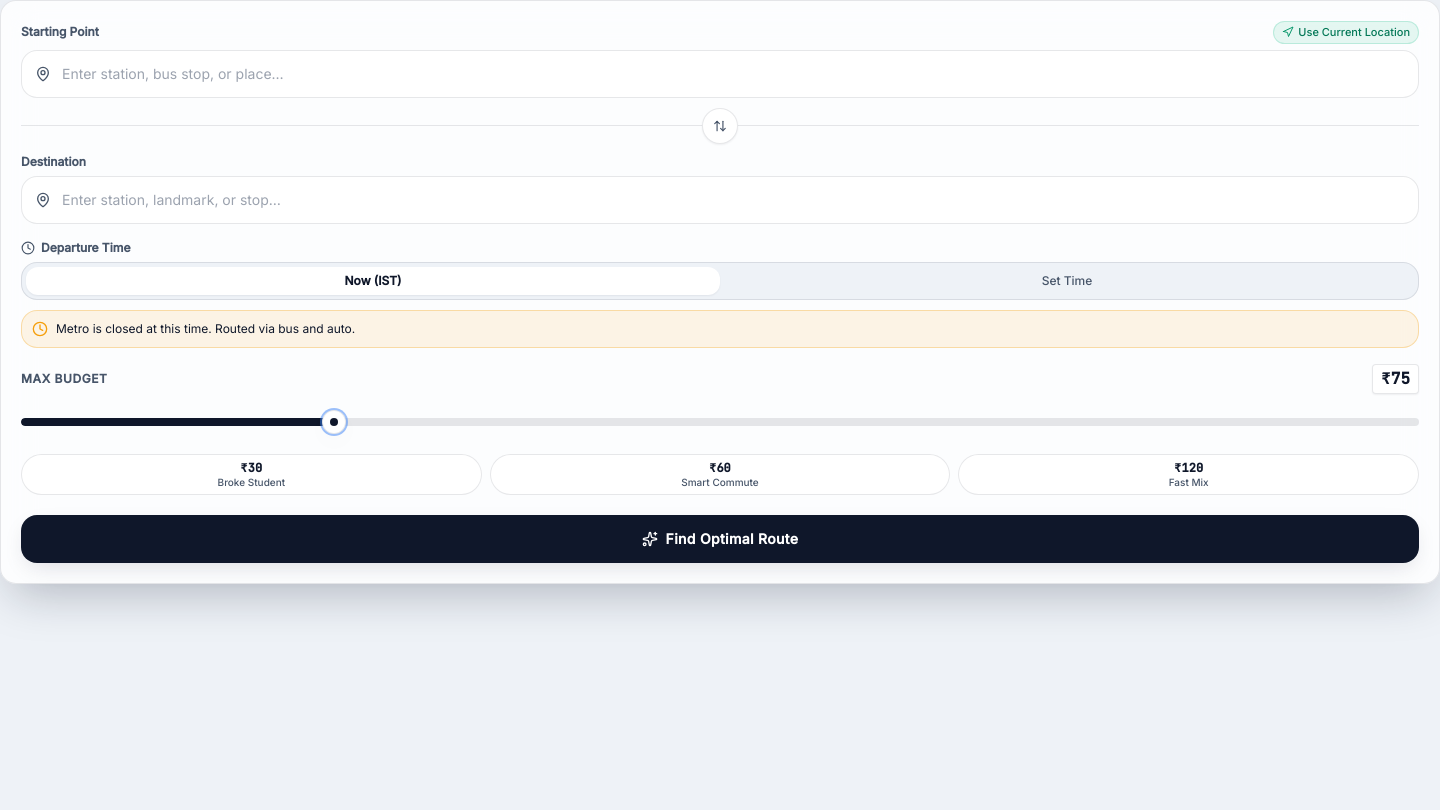
Test: Dock Component › validates missing origin and destination with inline errors
The image size is (1440, 810).
What coordinates should you click on to do the following:
click the button "Find Optimal Route"
I would click on:
 (720, 539)
Its box is [21,515,1419,563].
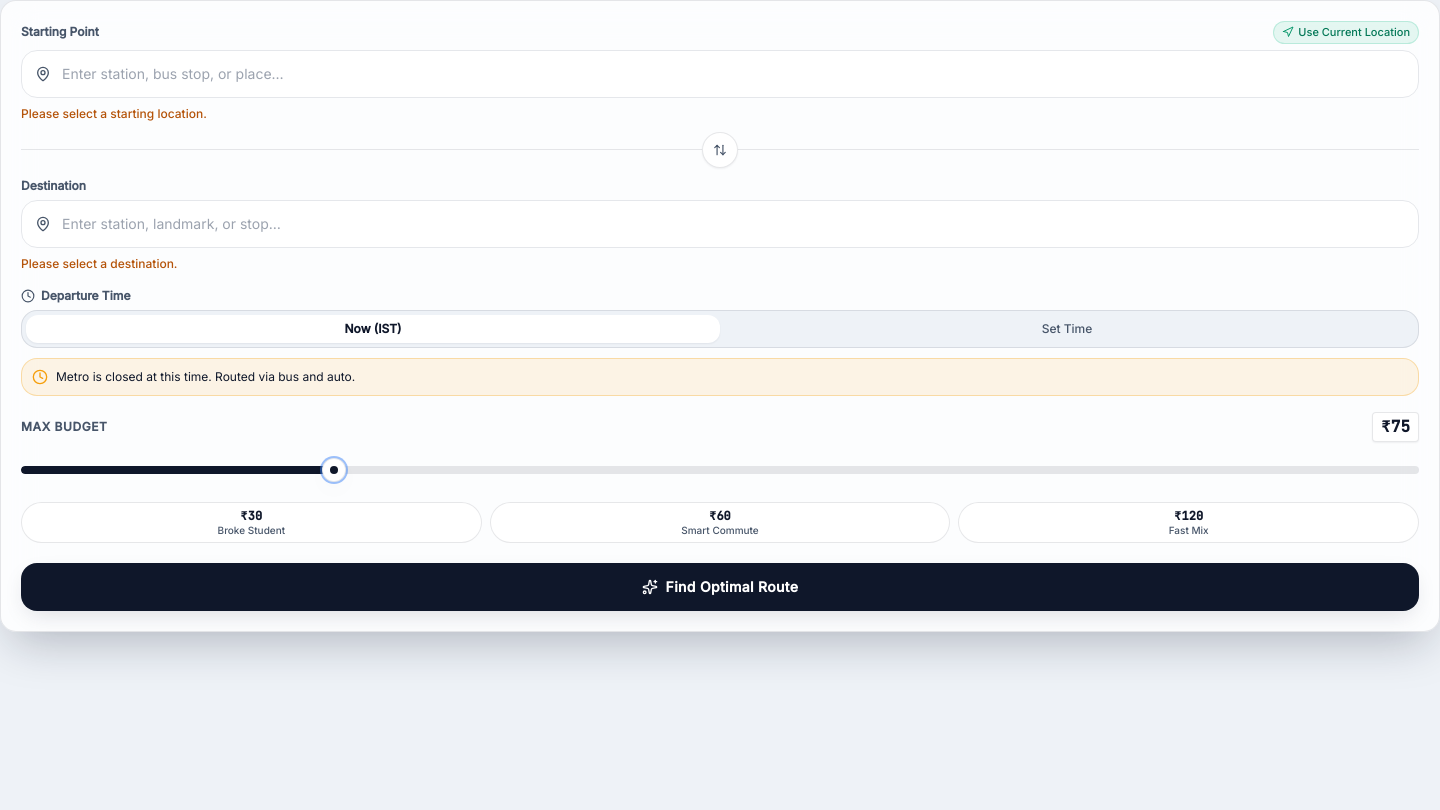
expect the text "Please select a starting location." is shown: met, box [21,106,207,120]
expect the text "Please select a destination." is shown: met, box [21,256,178,270]
